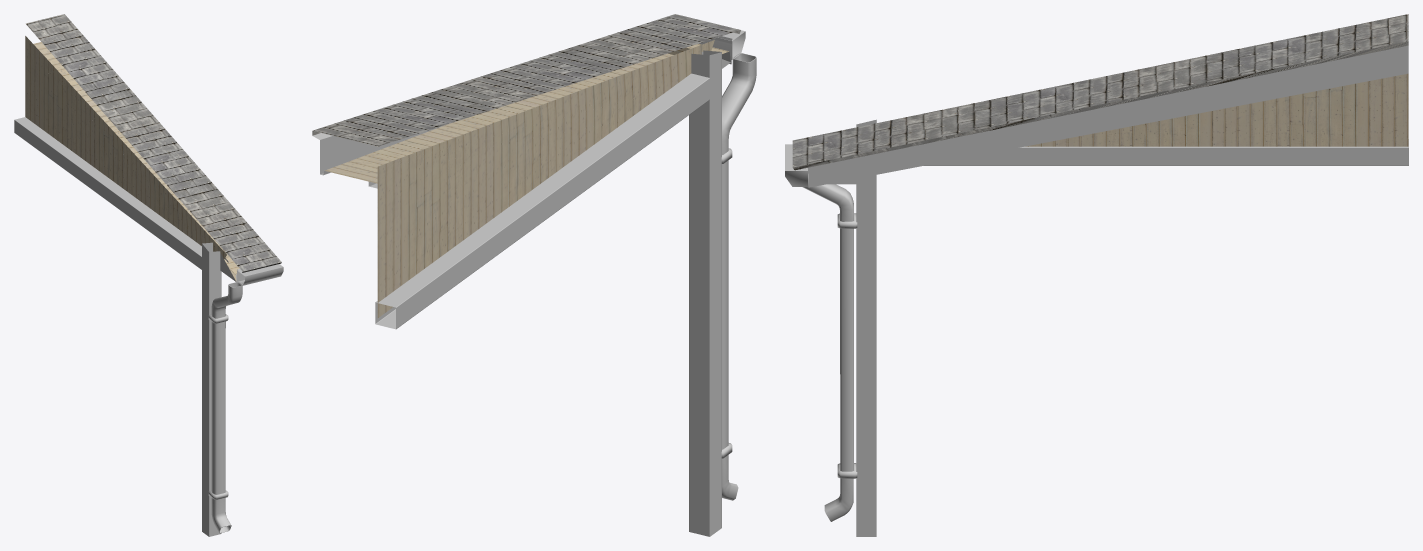
The model's file is Porch_End_Right_4x.FBX.
3 renders of one model, left to right at view 1: azimuth 30°, elevation 25°; view 2: azimuth 150°, elevation 25°; view 3: azimuth 270°, elevation 25°, orthographic. The views are drawn at different scales.
Parts seen in each view (by area): view 1: Porch_End_Right_4x; view 2: Porch_End_Right_4x; view 3: Porch_End_Right_4x.
Part boxes in pixels (box(x1,y1,x2,y2)): Porch_End_Right_4x: box(14, 14, 283, 536); Porch_End_Right_4x: box(312, 14, 756, 536); Porch_End_Right_4x: box(785, 14, 1408, 536).
Size of the model in its own units: 53.17 by 366 by 397.
